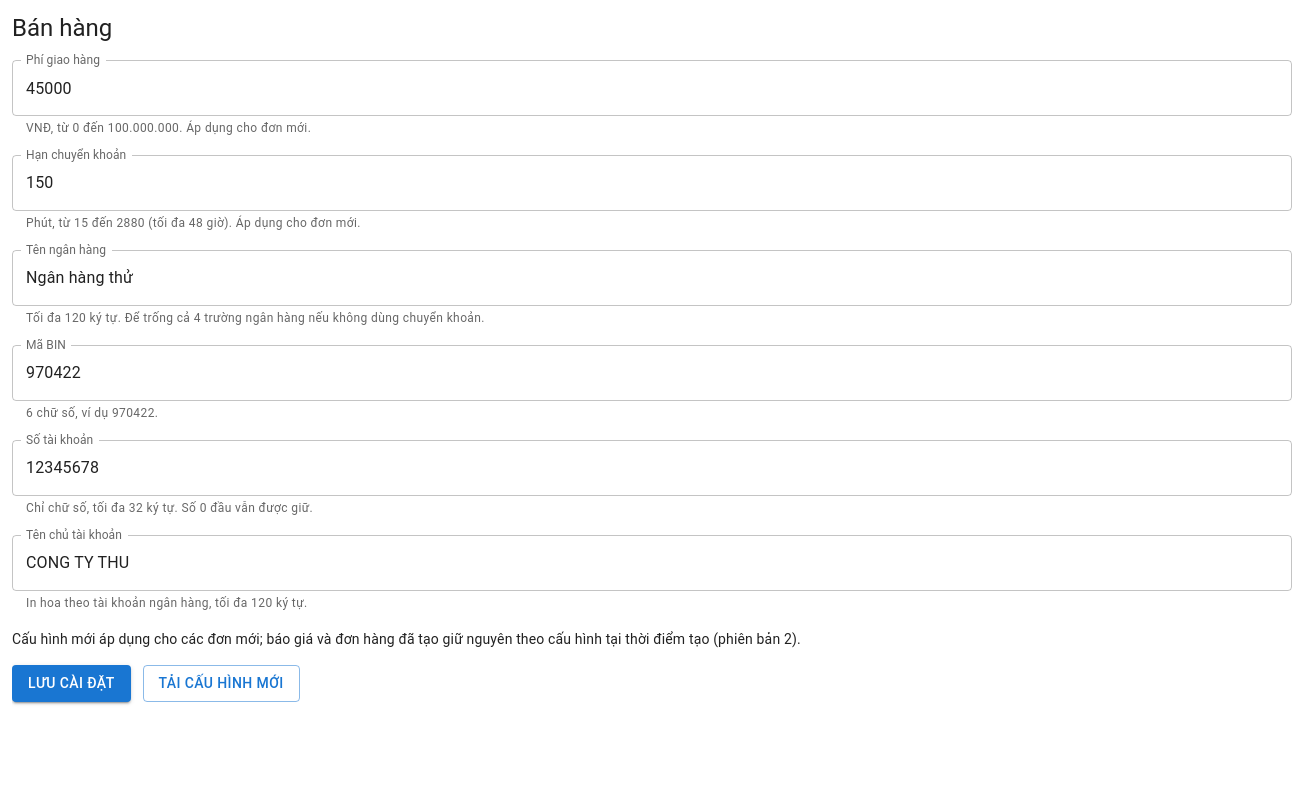
Test case: settings form › blocks an invalid save (Phí giao hàng="100000001") and keeps the field editable
Replace the text in the field labelled "Phí giao hàng" with "100000001". click: [652, 88]
box: [12,60,1292,116]
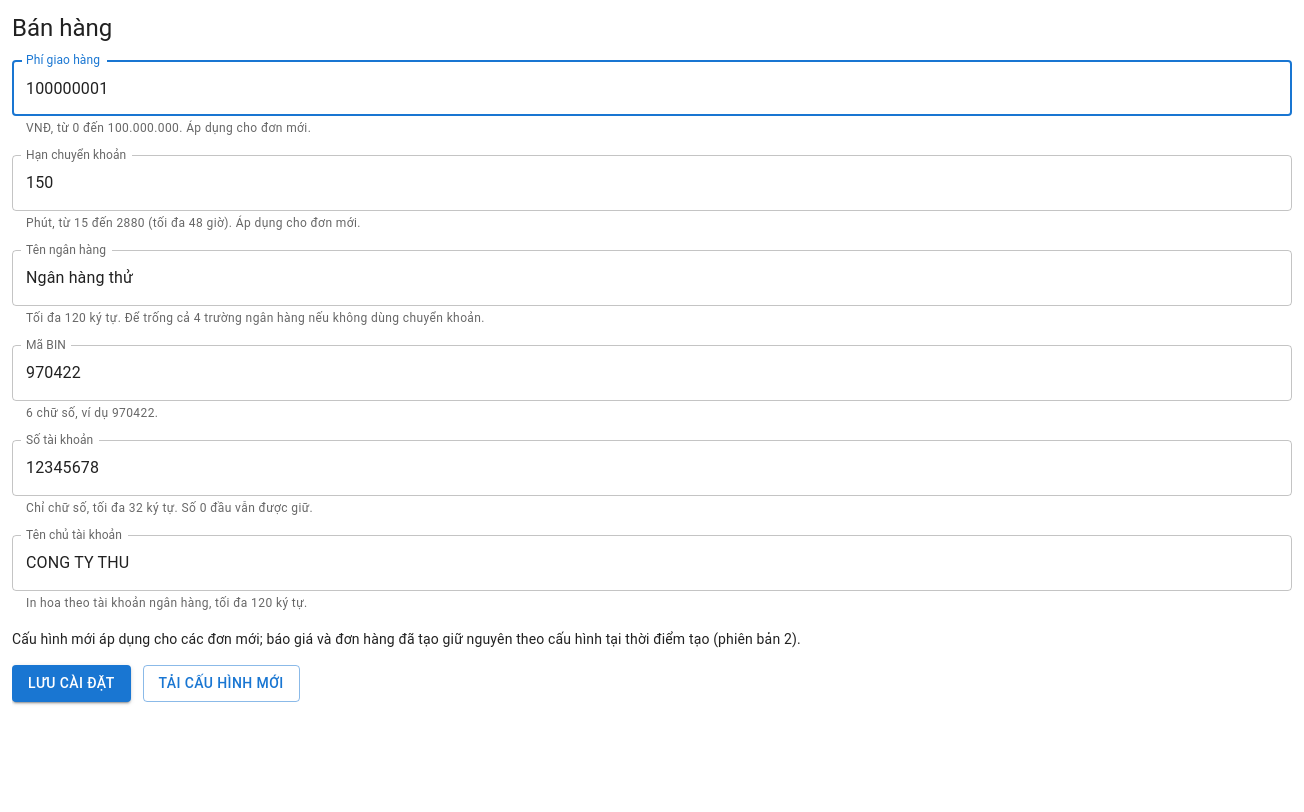
Click the button "Lưu cài đặt". click: [71, 684]
box: [12,666,131,702]
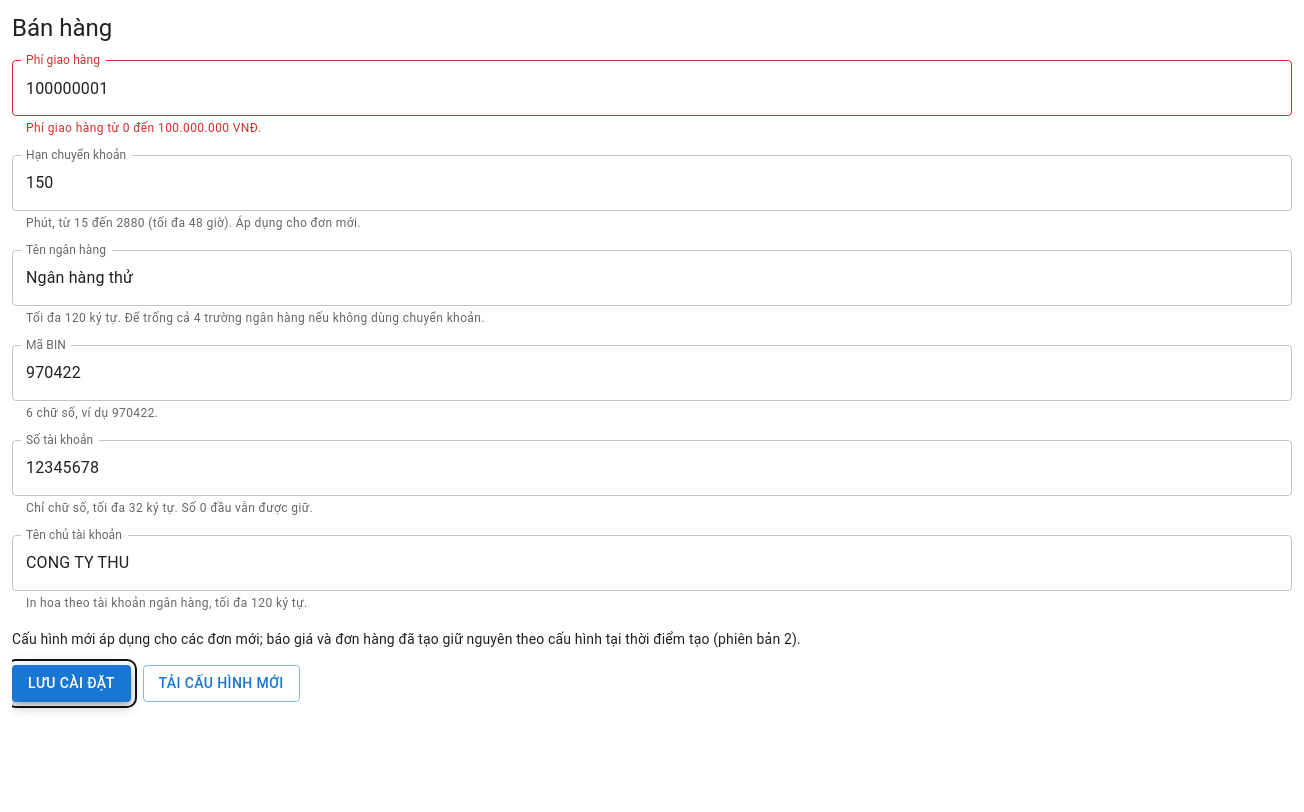
Expected: the field labelled "Phí giao hàng" is enabled, [12,60,1292,116]
Expected: the text "Phí giao hàng từ 0 đến 100.000.000 VNĐ." is shown, [26,121,261,135]
